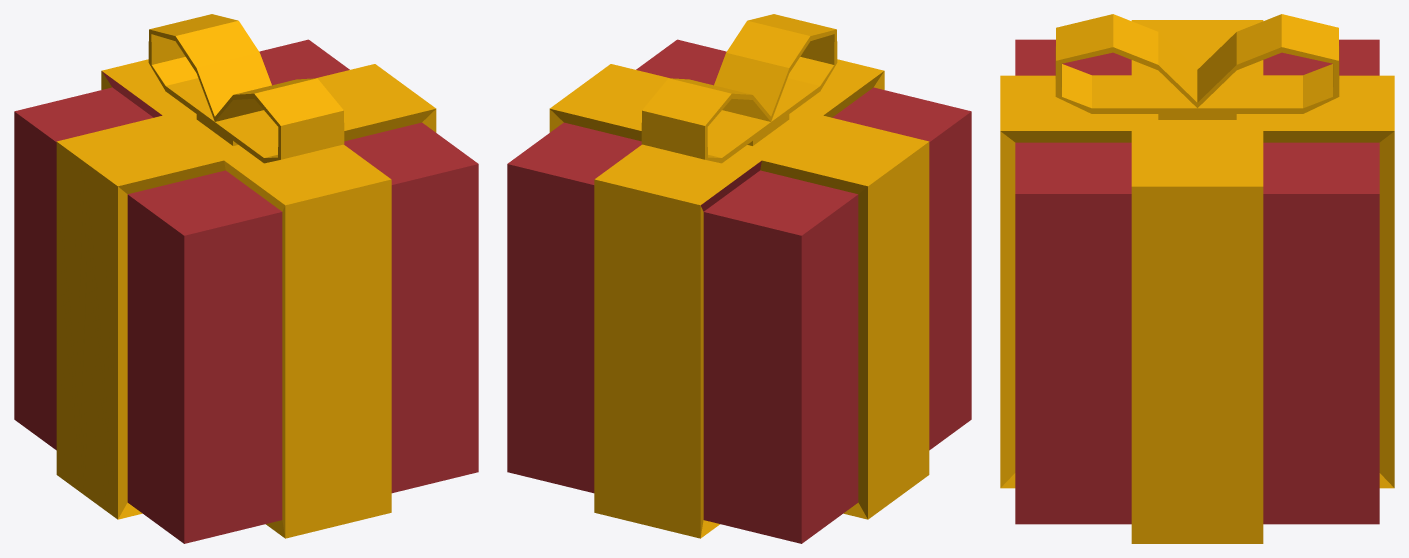
File: SingleGift.fbx
3 views of the same model, side by side, from view 1: azimuth 30°, elevation 25°; view 2: azimuth 150°, elevation 25°; view 3: azimuth 270°, elevation 25° (orthographic). The views are drawn at different scales.
Parts seen in each view (by area): view 1: Cube.3847; view 2: Cube.3847; view 3: Cube.3847.
Part boxes in pixels (<box>): Cube.3847: <box>14,14,478,543</box>; Cube.3847: <box>507,14,971,543</box>; Cube.3847: <box>1000,14,1394,543</box>.
Bounding box in the file's own units: 35.13 × 35.13 × 42.29.
